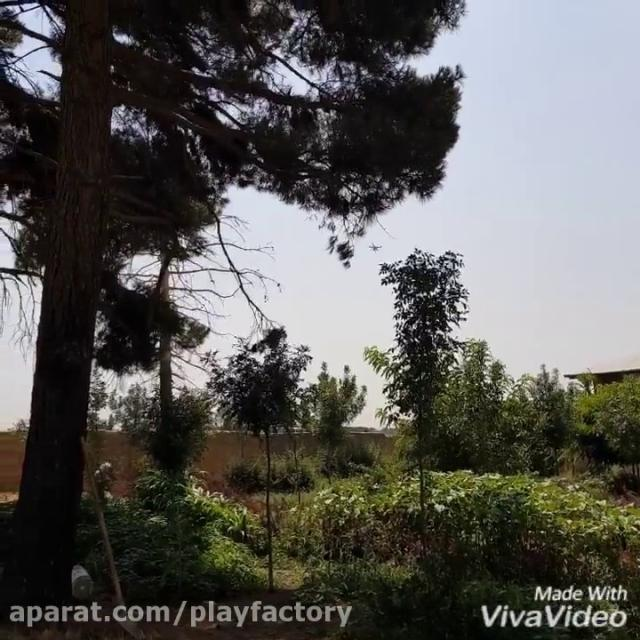drone: (364, 237, 386, 255)
